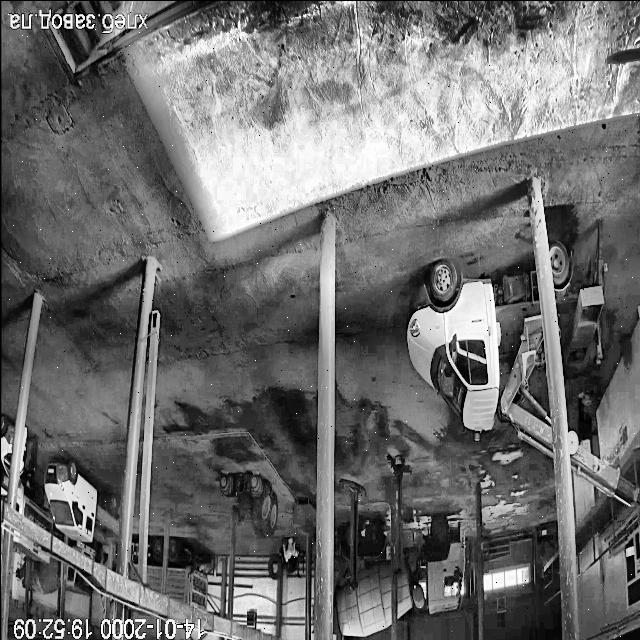class4: (20, 436, 37, 490)
class7: (407, 260, 552, 454), (336, 520, 392, 636), (45, 460, 119, 541), (550, 243, 603, 355), (568, 431, 639, 503), (416, 516, 464, 612), (166, 538, 207, 611), (16, 486, 51, 532), (0, 414, 16, 478), (13, 534, 48, 561), (147, 538, 162, 591), (335, 524, 349, 575), (16, 428, 27, 471), (134, 549, 140, 561), (0, 490, 6, 498), (597, 271, 600, 274)
tractor: (620, 335, 632, 370)
